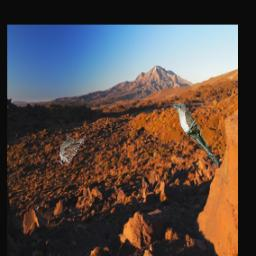Cuckoo: (172, 102, 219, 167)
Sparrow: (59, 134, 86, 166)
